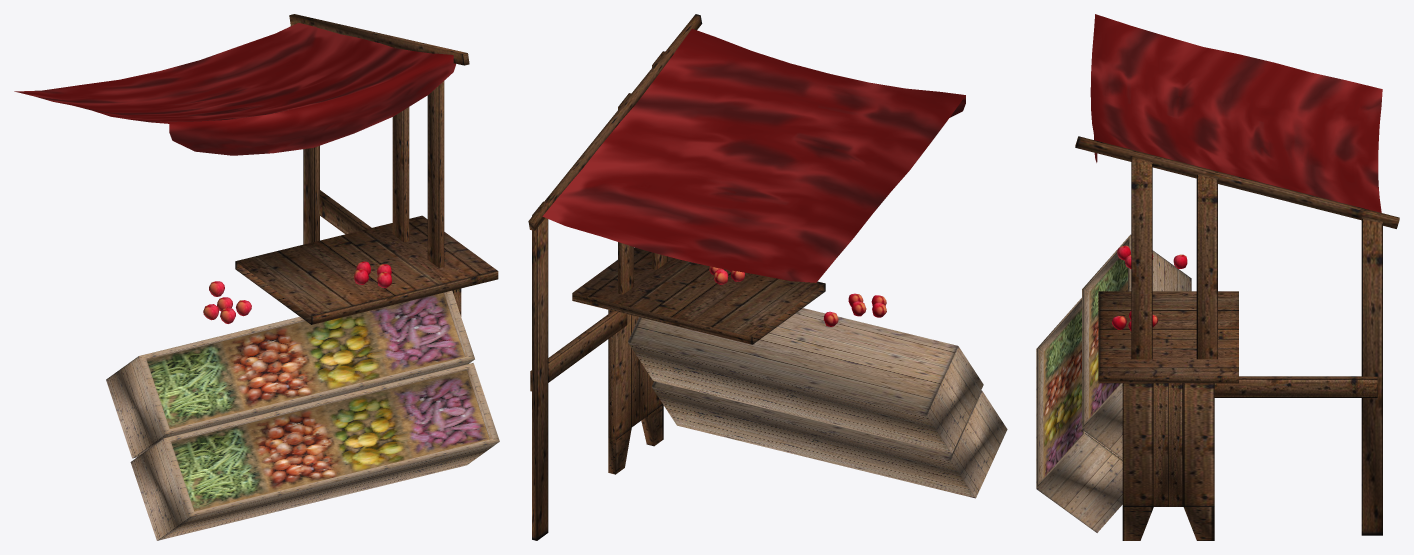
The model's file is merchant-post.dae.
3 views of the same model, side by side, from view 1: azimuth 30°, elevation 25°; view 2: azimuth 150°, elevation 25°; view 3: azimuth 270°, elevation 25° (orthographic). The views are drawn at different scales.
Parts seen in each view (by area): view 1: cajon_con_productos, Plane, cajon_con_productos_2, puesto_de_mercader_1; view 2: Plane, cajon_con_productos_2, puesto_de_mercader_1, cajon_con_productos; view 3: puesto_de_mercader_1, Plane, cajon_con_productos, cajon_con_productos_2.
Part boxes in pixels (bbox=[...]): cajon_con_productos: bbox=[130, 363, 499, 540]; Plane: bbox=[14, 23, 455, 155]; cajon_con_productos_2: bbox=[106, 290, 474, 458]; puesto_de_mercader_1: bbox=[235, 14, 498, 324]; Plane: bbox=[542, 28, 965, 282]; cajon_con_productos_2: bbox=[628, 308, 983, 453]; puesto_de_mercader_1: bbox=[528, 14, 825, 540]; cajon_con_productos: bbox=[651, 381, 1007, 498]; puesto_de_mercader_1: bbox=[1075, 136, 1399, 540]; Plane: bbox=[1090, 14, 1382, 212]; cajon_con_productos: bbox=[1036, 298, 1122, 532]; cajon_con_productos_2: bbox=[1082, 234, 1191, 458].
Bounding box in the file's own units: 3.73 × 3.7 × 4.44.
Materials: 4 (4 with a texture image).
